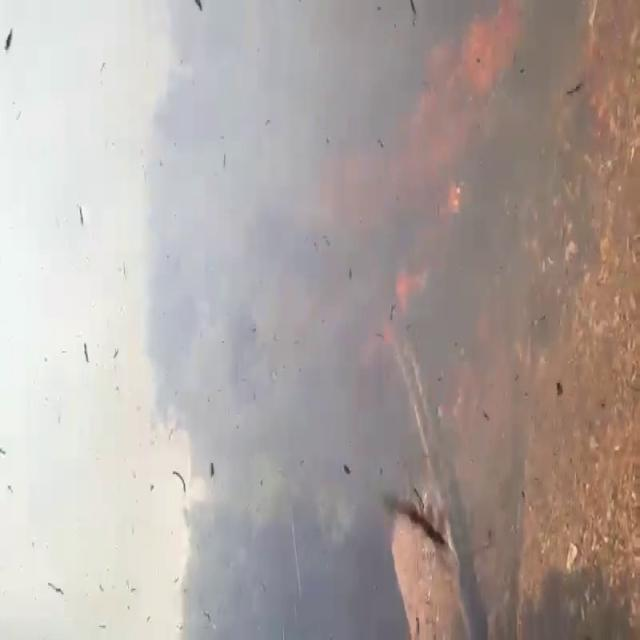Fire: (462, 19, 506, 81)
